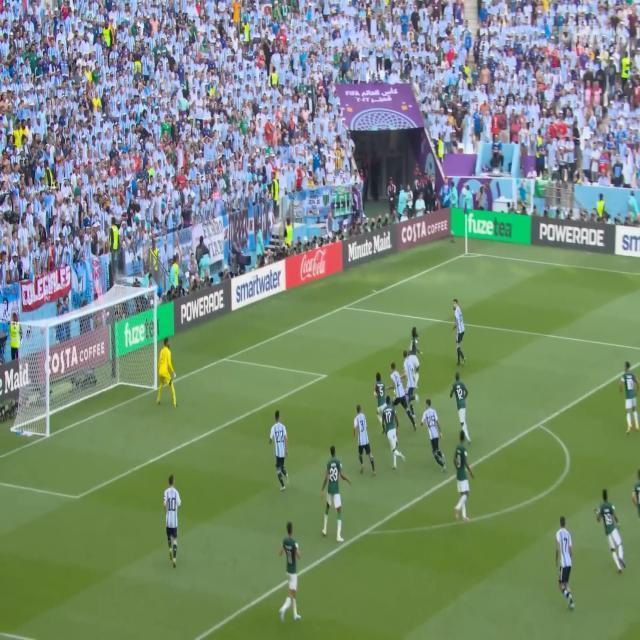player: (594, 483, 629, 584), (321, 435, 348, 543), (278, 515, 302, 628), (162, 471, 186, 569), (349, 406, 379, 477), (389, 363, 417, 438), (556, 509, 576, 614), (268, 408, 292, 493), (453, 426, 473, 528), (155, 333, 180, 414), (449, 370, 474, 445), (381, 395, 406, 468), (423, 394, 445, 475), (620, 355, 640, 440), (402, 343, 423, 418), (450, 296, 468, 370), (371, 375, 391, 426)
